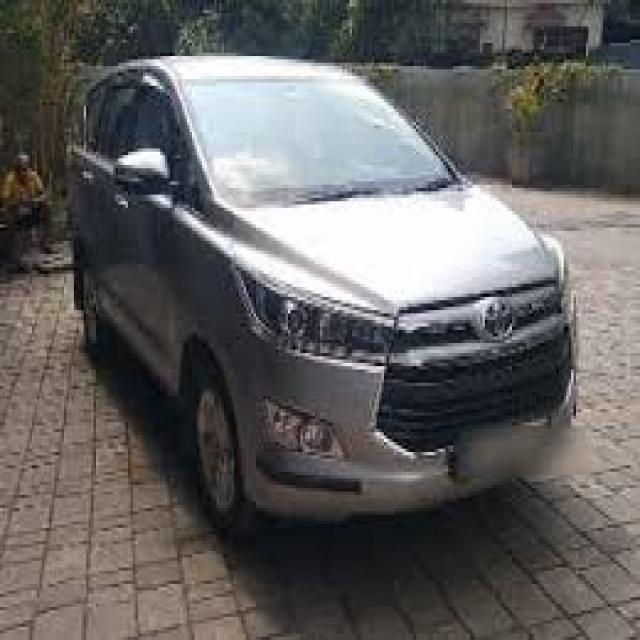light_vehicle: (66, 55, 580, 532)
